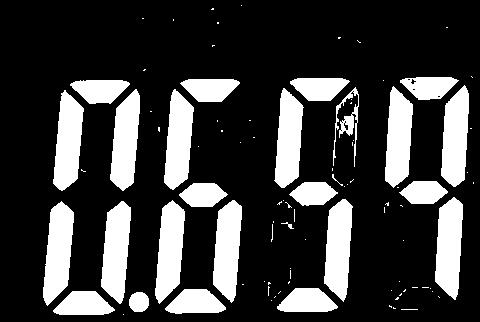0: (39, 80, 142, 319)
5: (265, 77, 359, 314)
6: (157, 78, 248, 317)
9: (383, 77, 472, 310)
dot: (127, 291, 151, 313)
